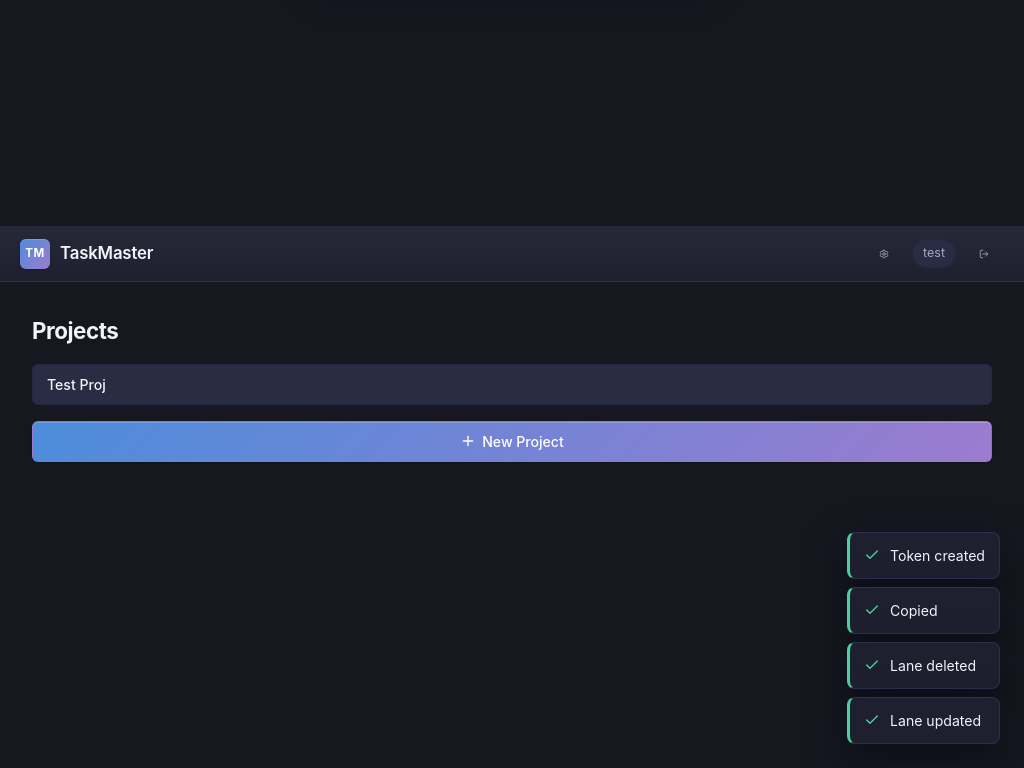
Test case: App › shows an accessible description toggle only for tasks with descriptions
(page scrolled)
Click the button "Test Proj" at (76,384), box left=32, top=364, right=992, bottom=405
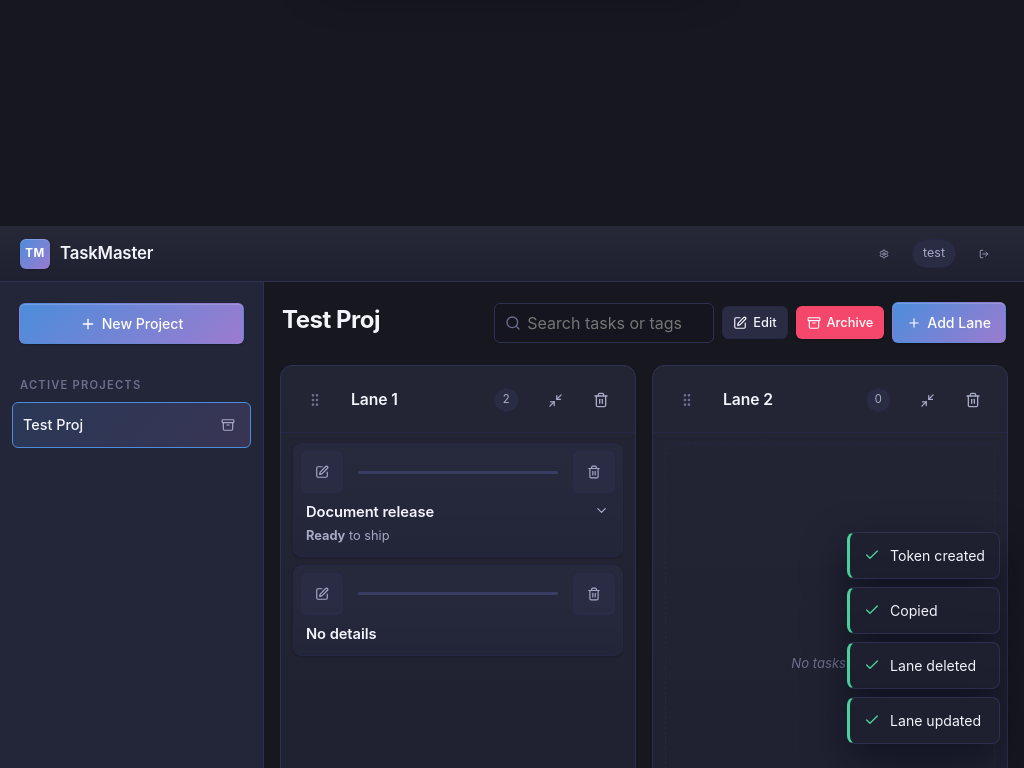
Click the button named "Collapse description for Document release" at (601,510), box left=589, top=498, right=613, bottom=522
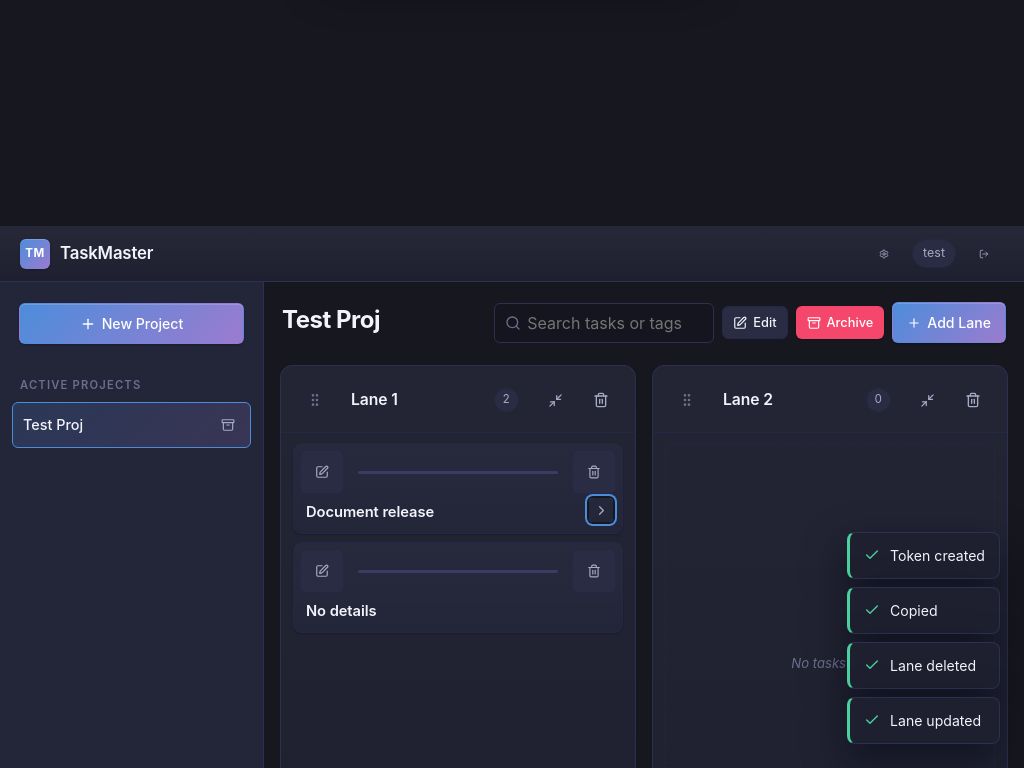
expect the button named "Expand description for Document release" is collapsed: met, box left=589, top=498, right=613, bottom=522
